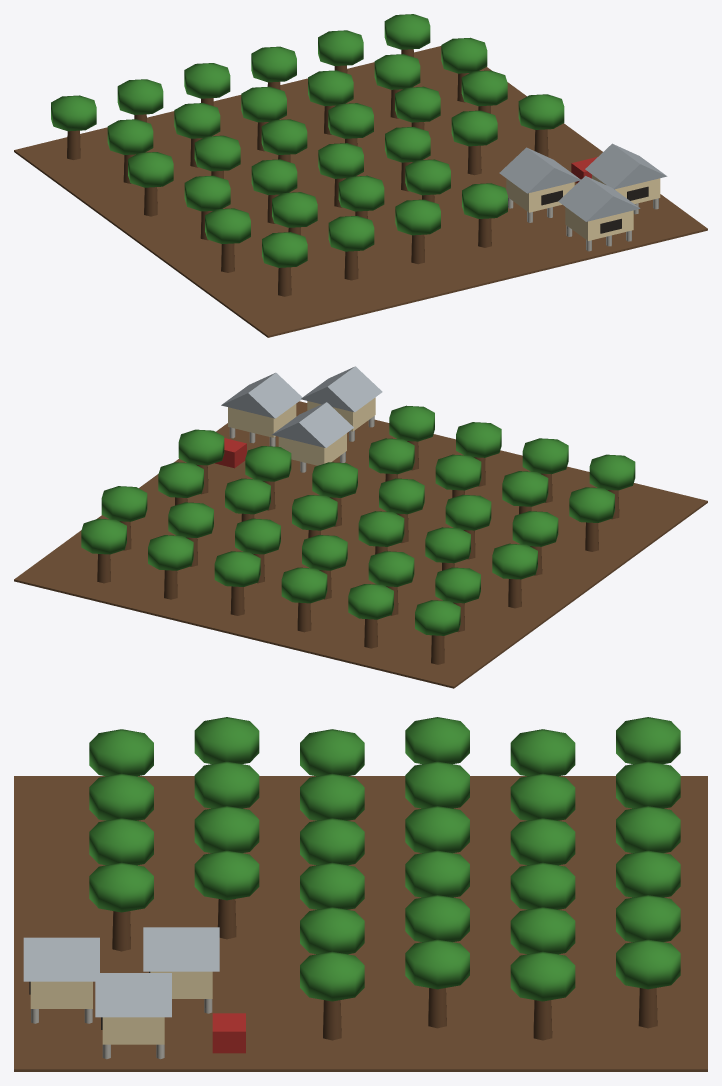
The model's file is building_ladang_sawit.glb.
3 views of the same model, one above another, from view 1: azimuth 30°, elevation 25°; view 2: azimuth 150°, elevation 25°; view 3: azimuth 270°, elevation 25° (orthographic). The views are drawn at different scales.
Parts seen in each view (by area): view 1: building_ladang_sawit; view 2: building_ladang_sawit; view 3: building_ladang_sawit.
Boxes of the visible parts, left/top/right/bottom form: building_ladang_sawit: left=14, top=14, right=707, bottom=337; building_ladang_sawit: left=14, top=366, right=707, bottom=688; building_ladang_sawit: left=14, top=717, right=707, bottom=1071.
Size of the model in its own units: 2.9 by 0.39 by 2.9.
